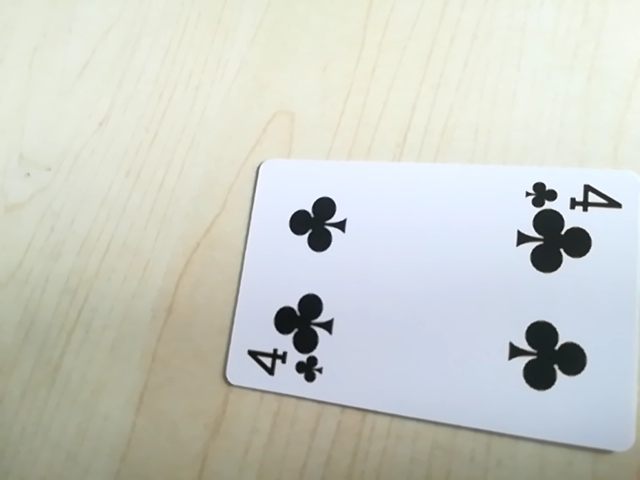mh 4: (521, 174, 620, 215), (241, 347, 327, 386)
